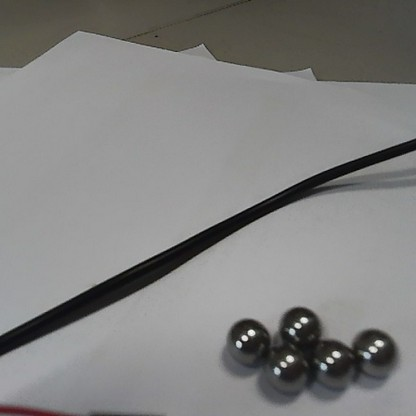ironball: (350, 322, 401, 381), (305, 332, 357, 385), (222, 310, 271, 365), (272, 299, 321, 348), (261, 345, 305, 389)
